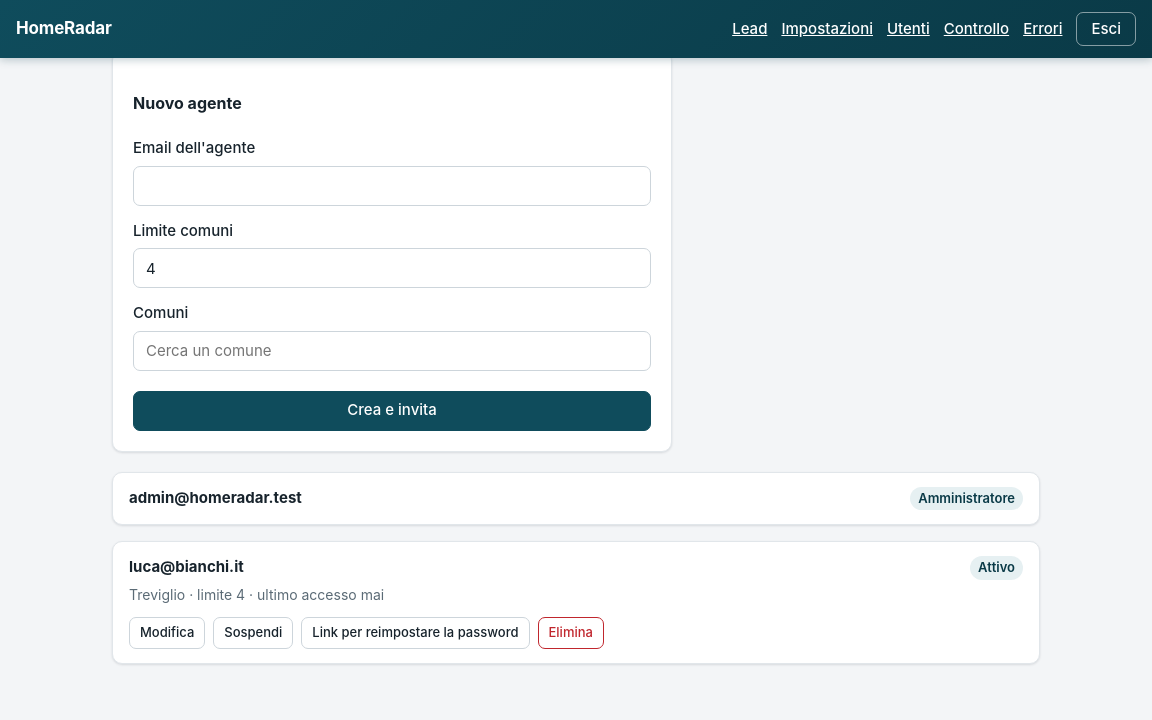
Scenario: admin utenti › sospende un agente attivo
The image size is (1152, 720).
(page scrolled)
Click the button "Sospendi" at (253, 632), box [213,616,293,648]
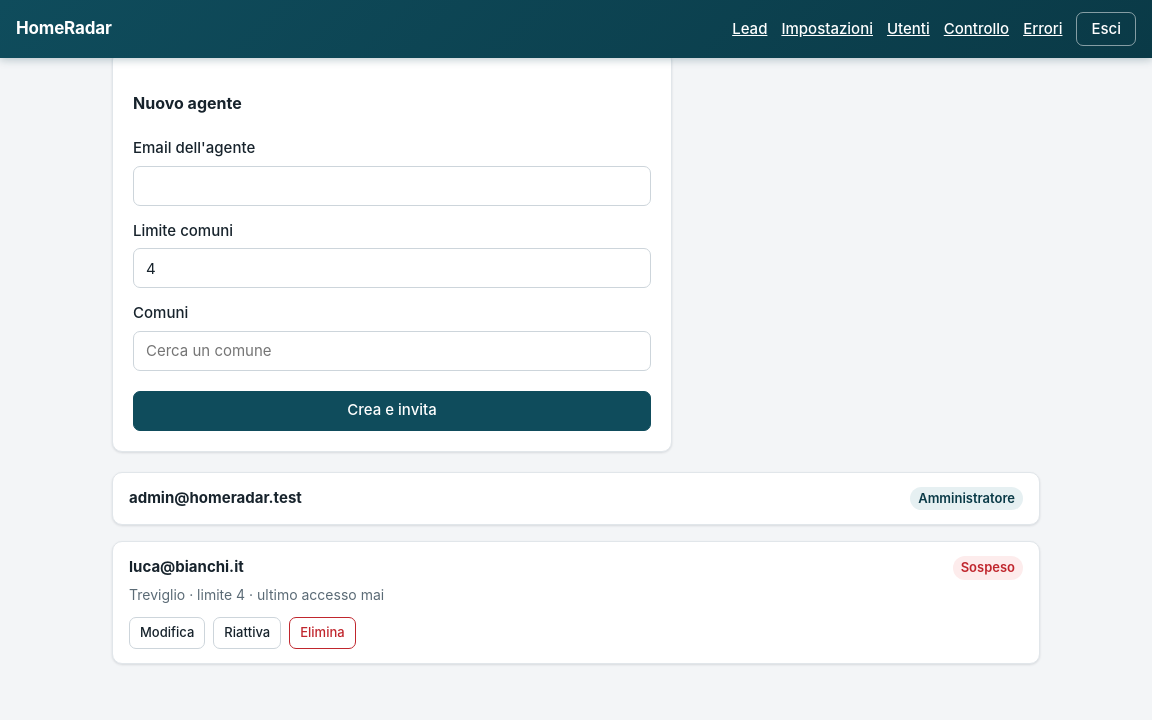
Now the button "Riattiva" is shown, box [213,616,281,648]
Now the text "Sospeso" is shown, box [953,556,1023,580]
